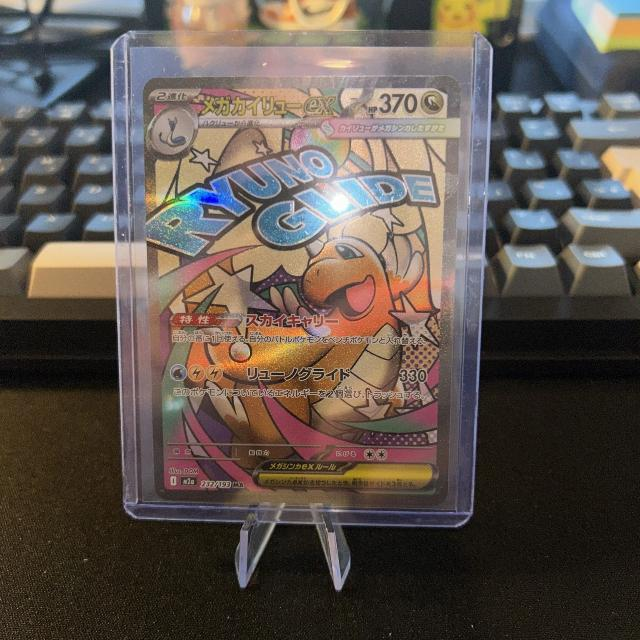Card: (139, 70, 467, 510), (195, 90, 342, 120)
